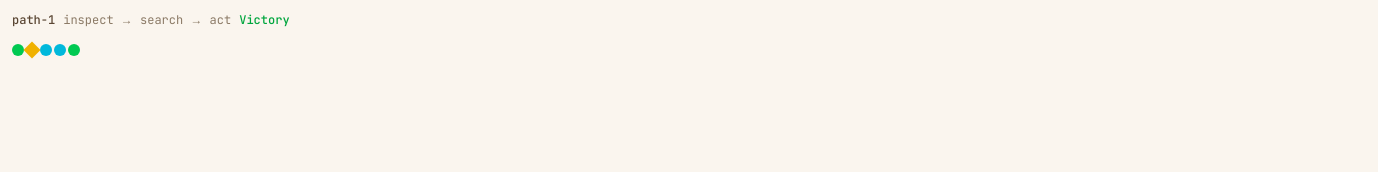
Test: RunReplay › shows event detail when a node is clicked
The image size is (1378, 172).
What coordinates should you click on to do the following:
click the 1st button named "step"
I would click on:
 (46, 50)
Its box is [40, 44, 52, 56].
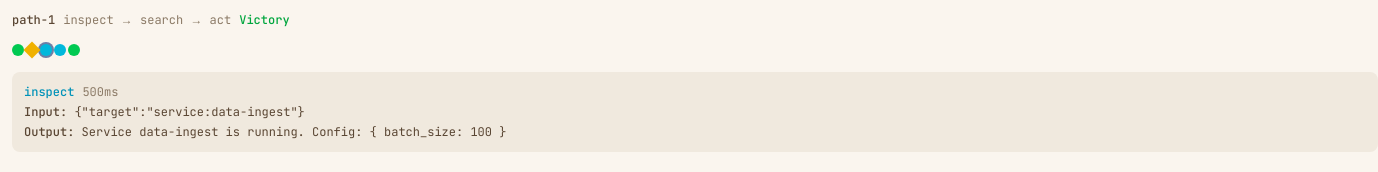
Expected: the text "inspect → search → act" is shown, [63, 12, 231, 28]
Expected: the text "Input: {\"target\":\"service:data-ingest\"}" is shown, [24, 104, 305, 120]
